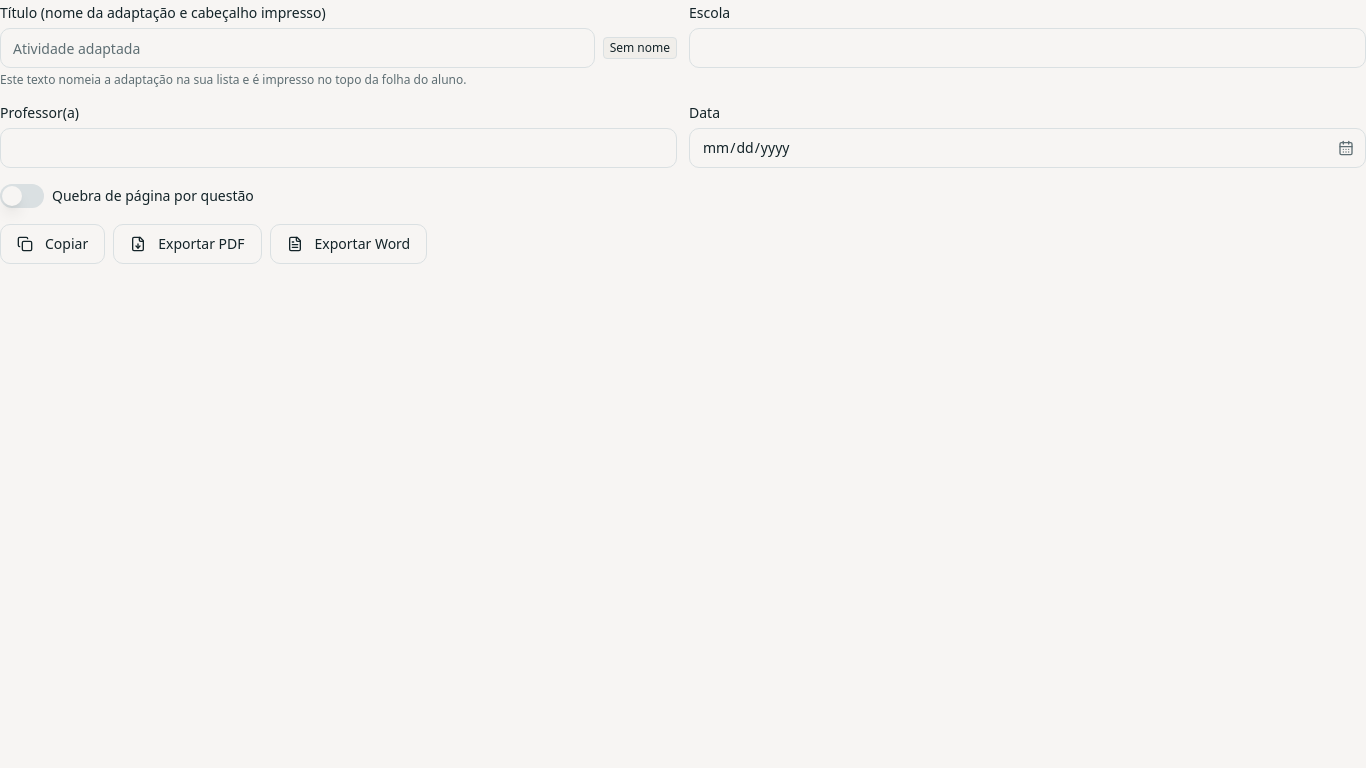
Test: aviso antes do download do Word (B15) › cancelar não baixa nada
Click the button "Exportar Word" at {"x": 348, "y": 244}, box [270,224,427,264]
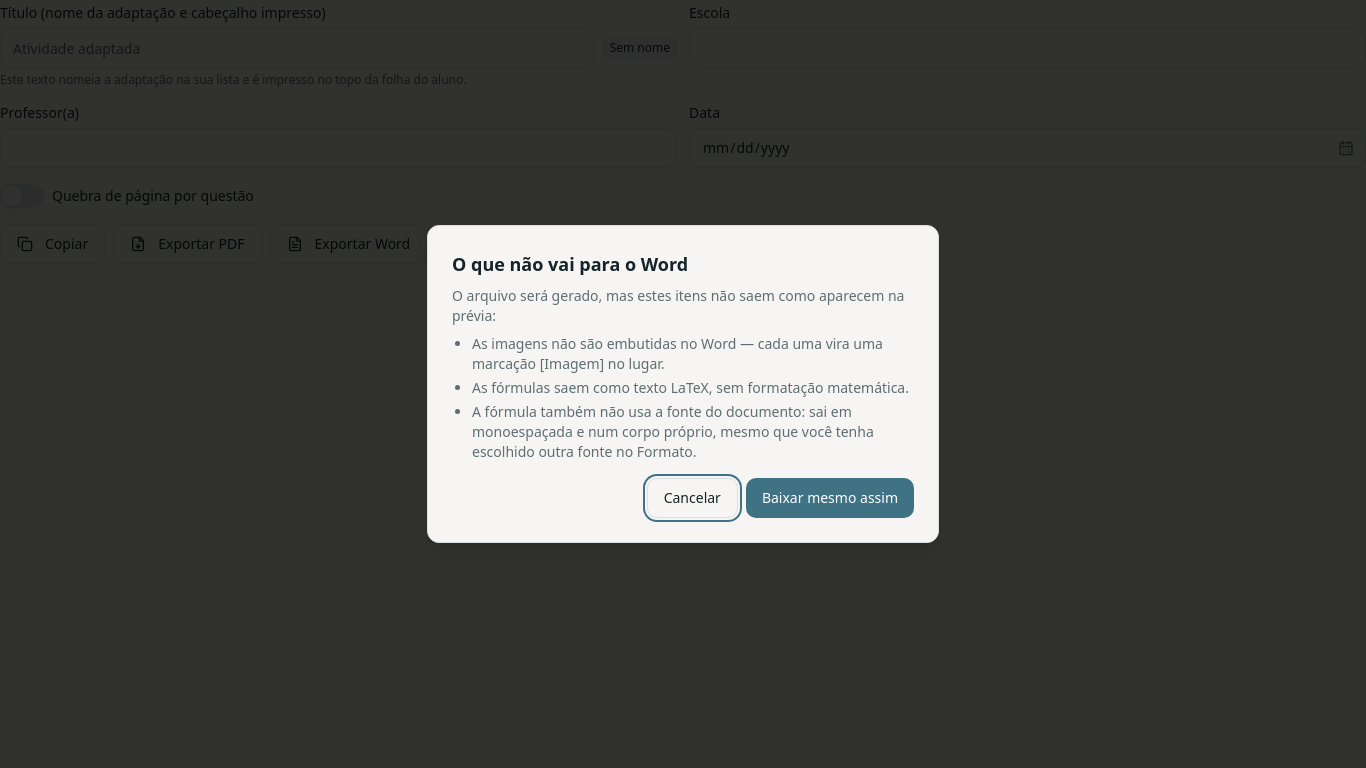
Click the button "Cancelar" at {"x": 692, "y": 498}, box [647,478,738,518]
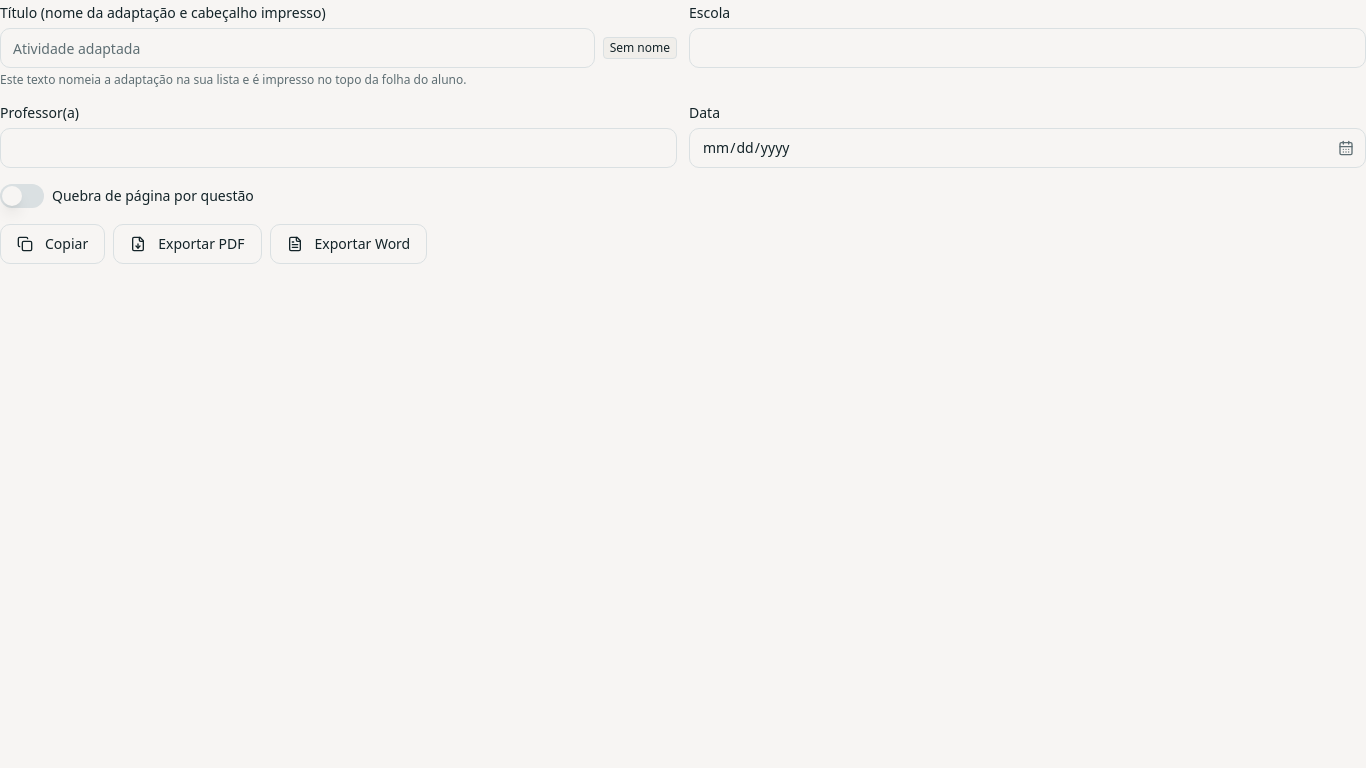
Check: the list item "não são embutidas no Word" is gone
